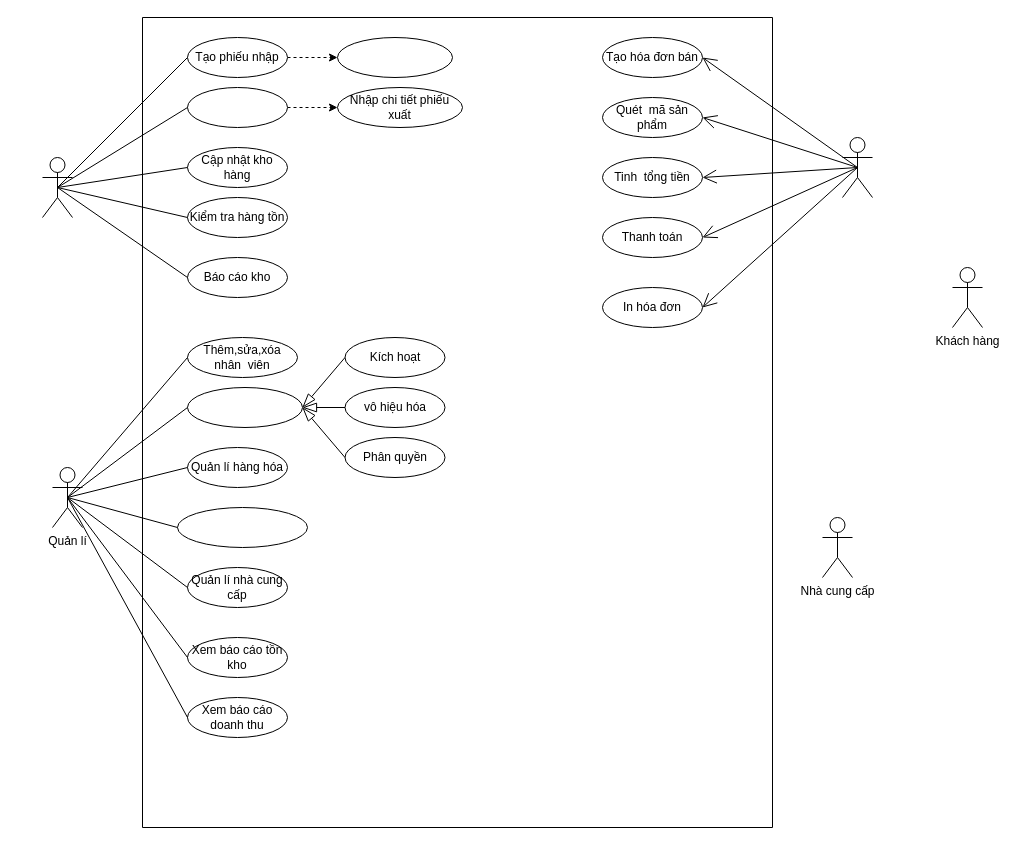
This 1017x845 diagram has some shape labels left out. Here are the shapes that lost their labels. From the top down, the centre of each, then its label:
the point at 394,57: Nhập chi tiết hàng hóa
the point at 237,107: Tạo phiếu xuất
the point at 57,187: Nhân viên kho
the point at 857,167: Nhân viên bán hàng
the point at 244,407: Quản lí tài khoản
the point at 242,527: Quản lí nhóm hàng/ngành hàng
